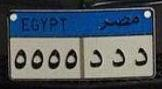5: (13, 46, 28, 71), (47, 48, 62, 72), (63, 49, 79, 71), (30, 48, 44, 71)
daal: (87, 48, 105, 71), (130, 47, 149, 68), (108, 48, 126, 70)
